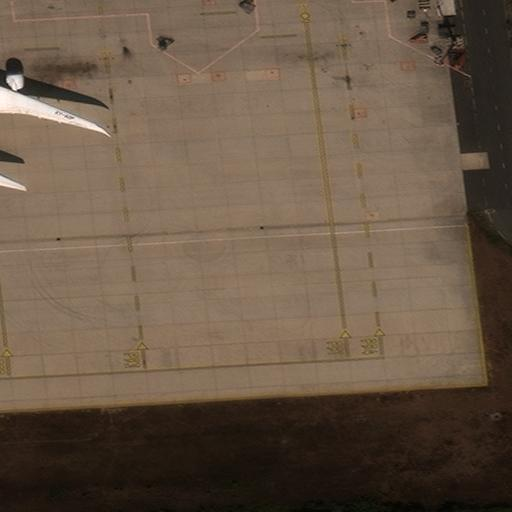Large Civil Transport: (0, 49, 103, 181)
